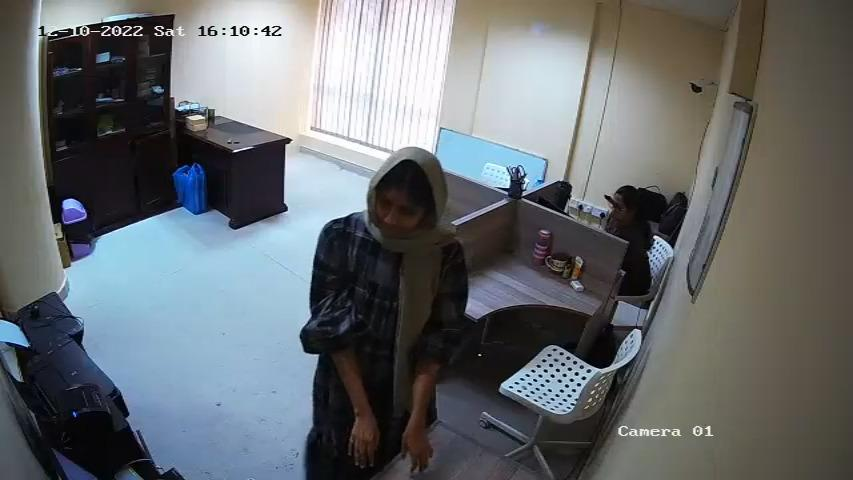no_gloves: (344, 411, 384, 480), (398, 415, 435, 480)
